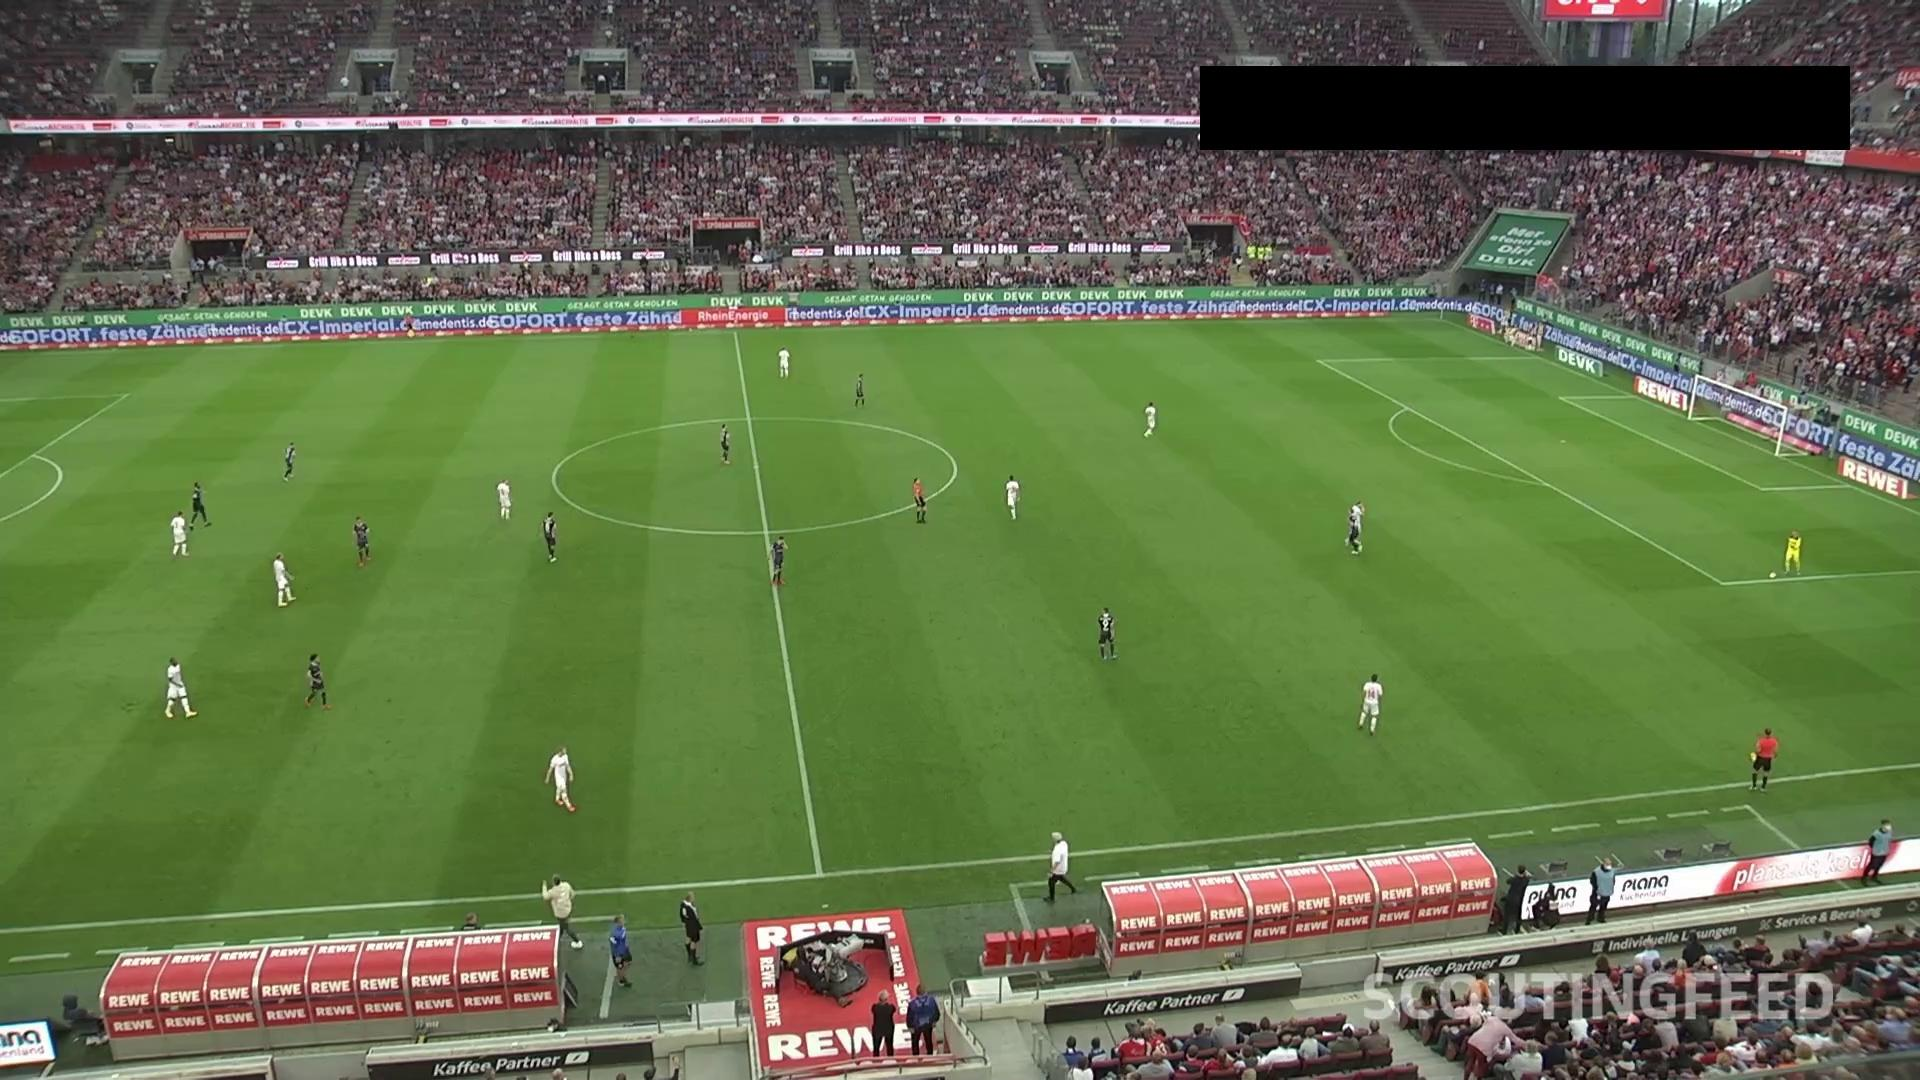Location-of-ball: (1759, 555, 1783, 600)
